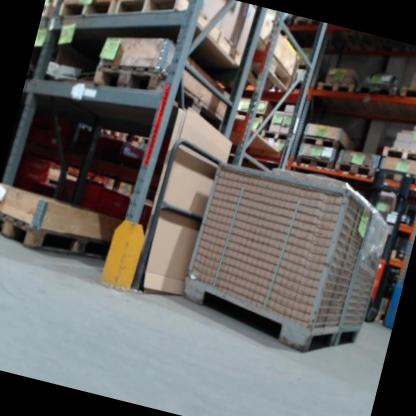pallet: (88, 54, 233, 131), (107, 0, 254, 71), (0, 209, 115, 272), (243, 32, 304, 103), (56, 0, 118, 33), (298, 128, 352, 156), (373, 163, 416, 196), (353, 78, 400, 107), (334, 156, 380, 185), (314, 74, 358, 104), (291, 149, 335, 179), (380, 140, 416, 168), (260, 122, 297, 147), (233, 103, 269, 124), (397, 78, 416, 110), (40, 1, 56, 25)
pallet_truck: (333, 161, 416, 332)
stillage: (175, 152, 401, 368)
